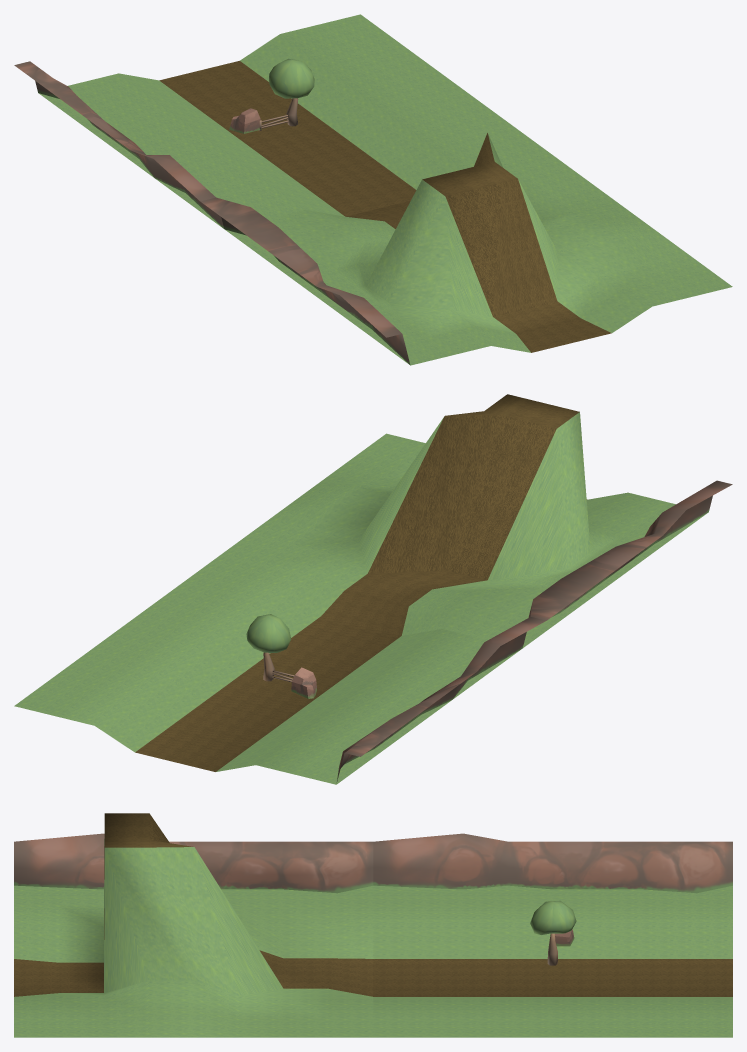
The model's file is falasie.glb.
3 views of the same model, one above another, from view 1: azimuth 30°, elevation 25°; view 2: azimuth 150°, elevation 25°; view 3: azimuth 270°, elevation 25° (orthographic). The views are drawn at different scales.
Parts seen in each view (by area): view 1: Plane_t_v2-col, Plane_t-col, murPierre2, MurPierre, Arbre, Cube.001; view 2: Plane_t_v2-col, Plane_t-col, murPierre2, MurPierre, Arbre; view 3: Plane_t_v2-col, Plane_t-col, MurPierre, murPierre2, Arbre.
Part boxes in pixels (x1,y1,x2,y2): Plane_t_v2-col: (225,133,732,365); Plane_t-col: (38,14,546,227); murPierre2: (200,197,410,365); MurPierre: (14,61,223,228); Arbre: (269,59,314,126); Cube.001: (229,108,261,133); Plane_t_v2-col: (200,394,706,647); Plane_t-col: (14,570,520,784); murPierre2: (528,480,732,620); MurPierre: (336,617,546,782); Arbre: (246,614,291,681); Plane_t_v2-col: (14,813,373,1037); Plane_t-col: (373,885,732,1037); MurPierre: (373,833,732,893); murPierre2: (14,833,373,893); Arbre: (530,900,576,965).
Bounding box in the file's own units: 43 × 16.61 × 80.
5 materials, 5 textured.
